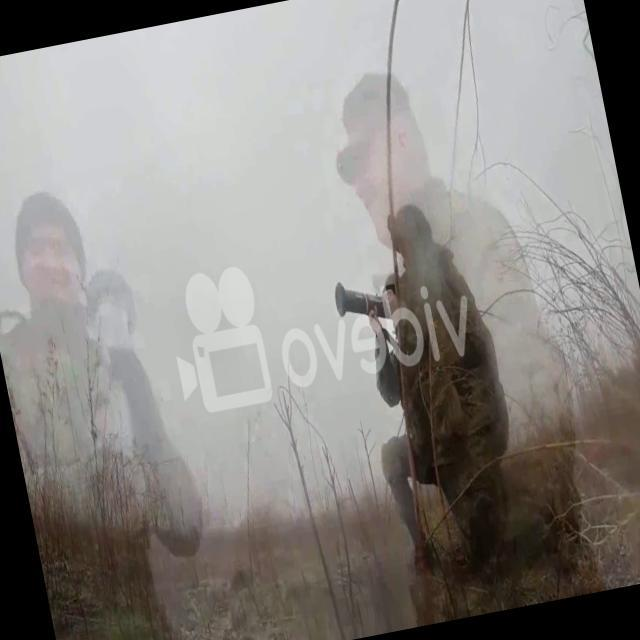rocket: (332, 279, 387, 324)
